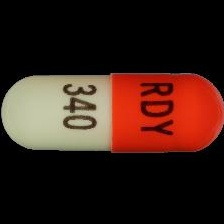55111-340: (0, 0, 224, 224)
